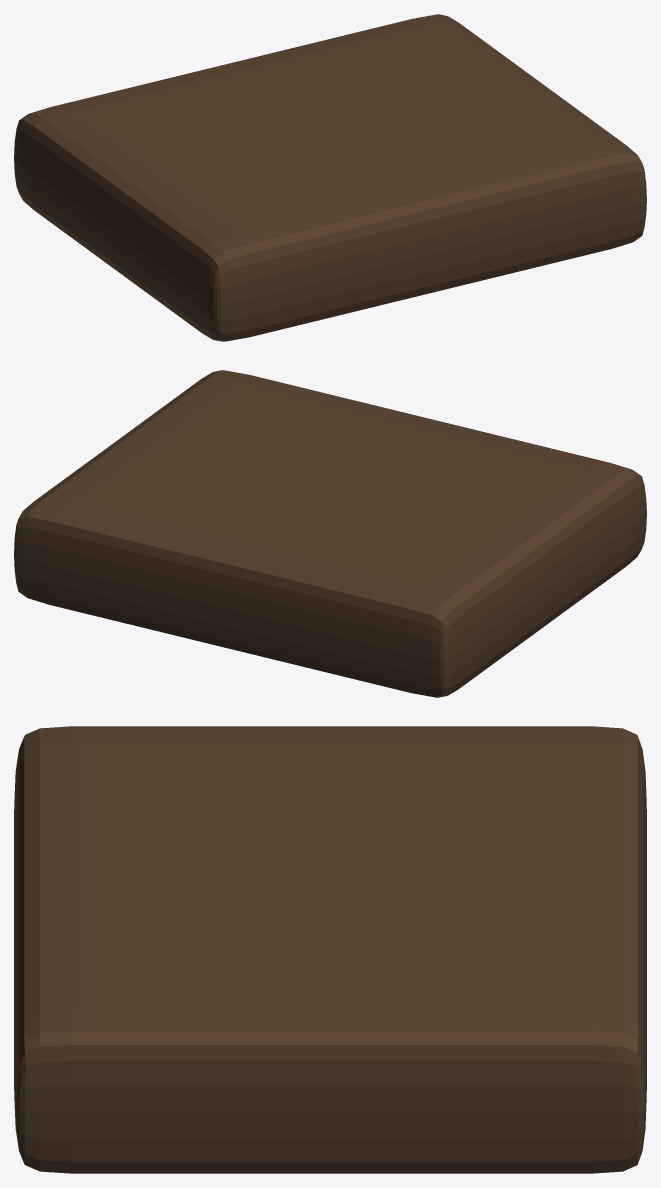
File: couch.dae
The picture shows the model from 3 angles, top to bottom: view 1: azimuth 30°, elevation 25°; view 2: azimuth 150°, elevation 25°; view 3: azimuth 270°, elevation 25°; orthographic projection. The views are drawn at different scales.
Parts seen in each view (by area): view 1: cushion_002; view 2: cushion_002; view 3: cushion_002.
Boxes of the visible parts, x1=… form: cushion_002: x1=14, y1=14, x2=646, y2=341; cushion_002: x1=14, y1=370, x2=646, y2=697; cushion_002: x1=14, y1=726, x2=646, y2=1173.
Bounding box in the file's own units: 0.7849 × 0.6428 × 0.165.
